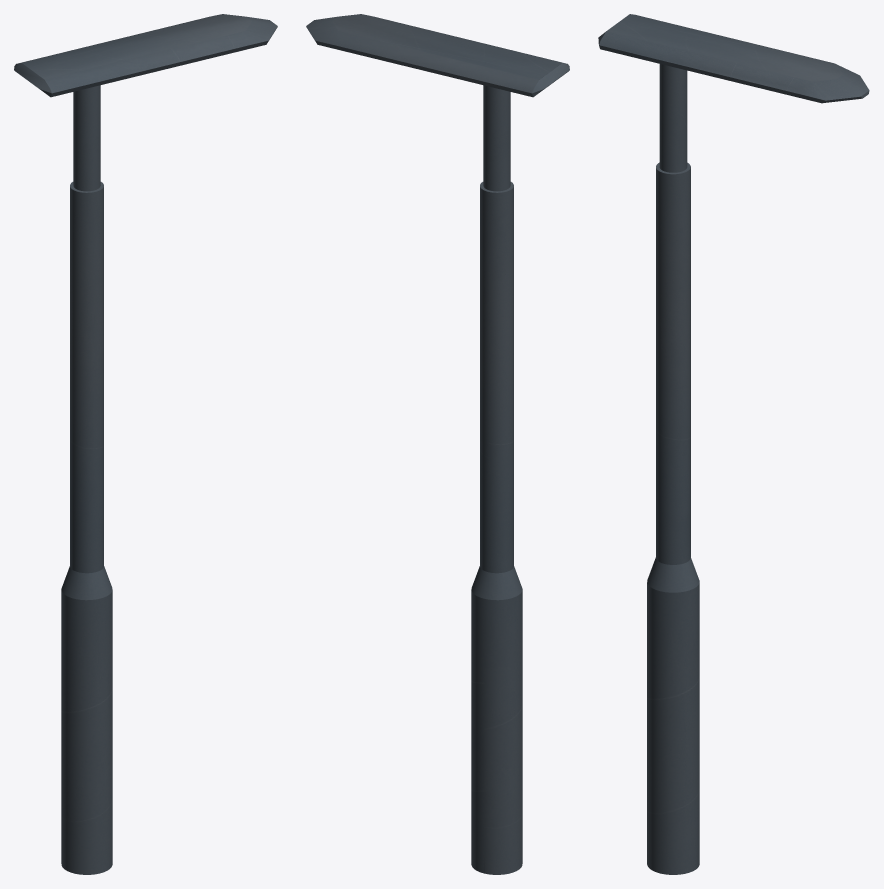
Rendered from StreetLamp.fbx.
The picture shows the model from 3 angles, left to right: view 1: azimuth 30°, elevation 25°; view 2: azimuth 150°, elevation 25°; view 3: azimuth 330°, elevation 25°; orthographic projection. The views are drawn at different scales.
Parts seen in each view (by area): view 1: StreetLamp; view 2: StreetLamp; view 3: StreetLamp.
Boxes of the visible parts, bbox=[...] form: StreetLamp: bbox=[14, 14, 277, 874]; StreetLamp: bbox=[306, 14, 569, 874]; StreetLamp: bbox=[598, 14, 869, 874].
Size of the model in its own units: 108 by 337 by 28.34.
